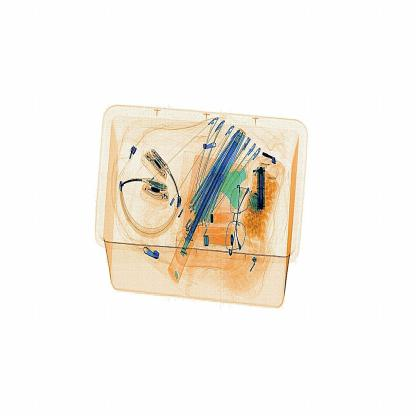scissors: (251, 161, 277, 224)
